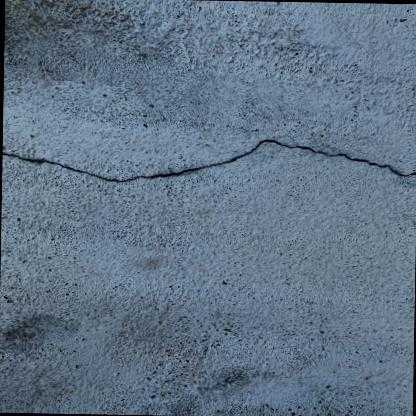crack: (1, 139, 416, 182)
